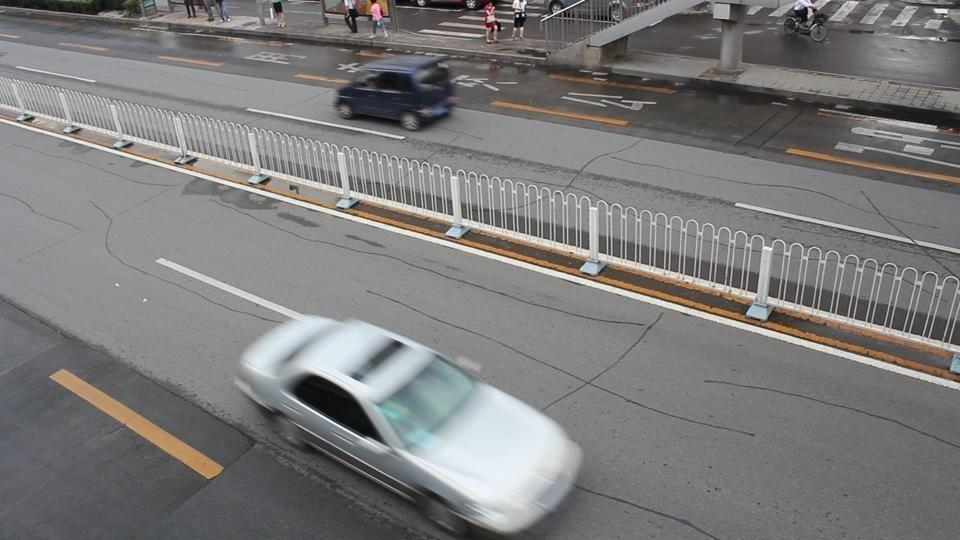car: (234, 313, 583, 535), (333, 62, 456, 130)
